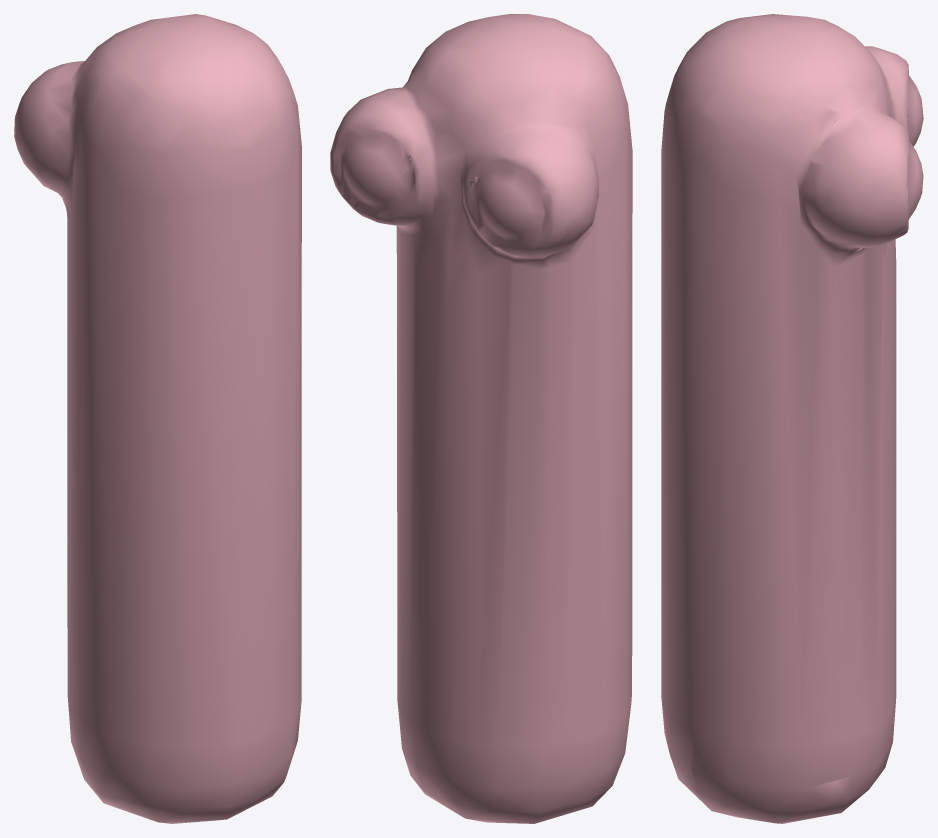
The model's file is avatar_default.glb.
3 renders of one model, left to right at view 1: azimuth 30°, elevation 25°; view 2: azimuth 150°, elevation 25°; view 3: azimuth 270°, elevation 25°, orthographic.
Parts seen in each view (by area): view 1: avatar_default; view 2: avatar_default; view 3: avatar_default.
Part boxes in pixels (box(x1,y1,x2,y2)): avatar_default: box(14, 14, 301, 823); avatar_default: box(330, 14, 632, 823); avatar_default: box(661, 14, 923, 823).
Bounding box in the file's own units: 0.5244 × 1.56 × 0.4774.
